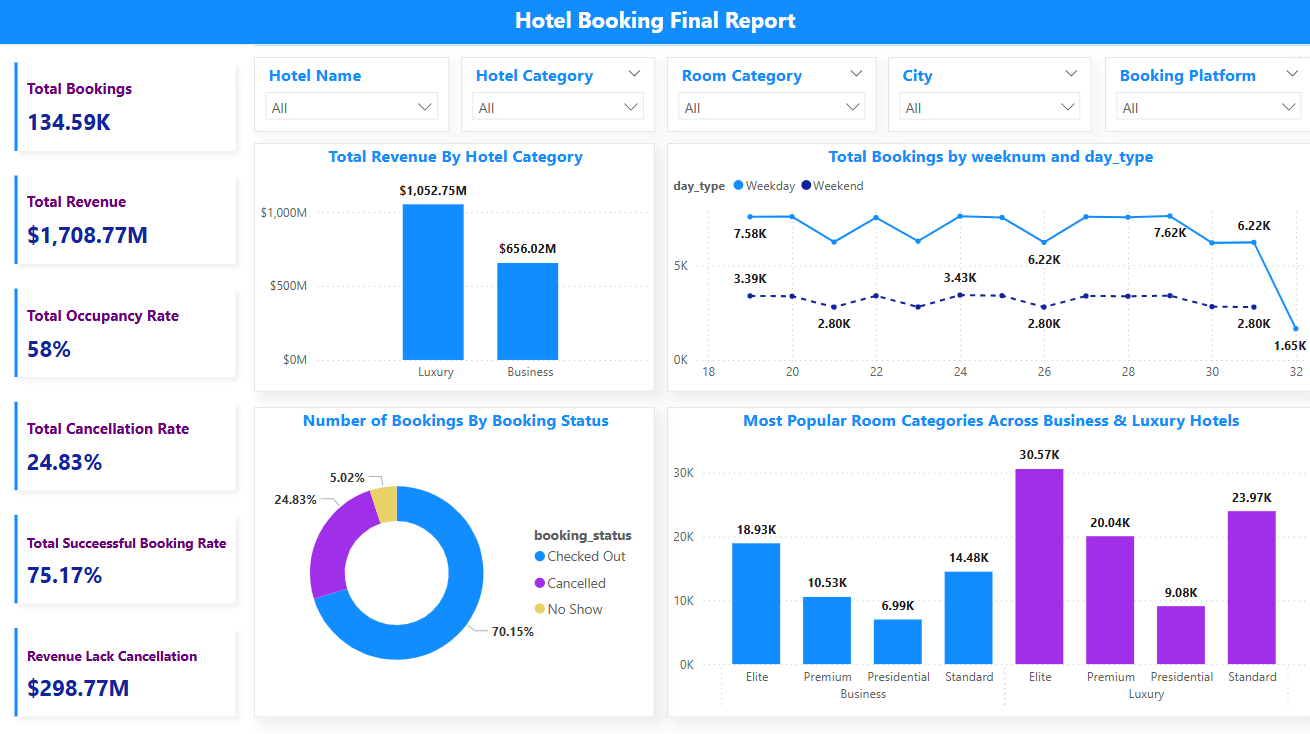

The dashboard page shown, as its layout file describes it:
{"tool":"powerbi","page":{"name":"Home page","canvas":[1280,720],"ordinal":0},"visuals":[{"type":"textbox","box":[0,0,1280,45.7],"z":0},{"type":"cardVisual","fields":{"Data":["Measures (2).Total Bookings","Measures (2).Total Revenue","Measures (2).Total Occupancy Rate","Measures (2).Total Cancellation Rate","Measures (2).Total Succeessful Booking Rate","Measures (2).Revenue Lack Cancellation"]},"box":[0,45.7,250,674],"z":1000},{"type":"group","id":"g1","title":"Group 1","box":[250,57.4,1030,72.9],"z":2000},{"type":"slicer","fields":{"Values":["public dim_hotels.category"]},"box":[451.3,57.4,188.7,72.9],"z":2000,"group":"g1"},{"type":"slicer","fields":{"Values":["public dim_hotels.property_name"]},"box":[250,57.4,189.7,72.9],"z":3000,"group":"g1"},{"type":"columnChart","title":"Total Revenue By Hotel Category","fields":{"Y":["Measures (2).Total Revenue"],"Category":["public dim_hotels.category"]},"box":[250,141,390,242.2],"z":3000},{"type":"slicer","fields":{"Values":["public dim_rooms.room_class"]},"box":[651.7,57.4,204.3,72.9],"z":4000,"group":"g1"},{"type":"lineChart","fields":{"Y":["Measures (2).Total Bookings"],"Category":["public dim_date.weeknum"],"Series":["public dim_date.day_type"]},"box":[651.7,141,628.3,242.2],"z":4000},{"type":"slicer","fields":{"Values":["public dim_hotels.city"]},"box":[866.7,57.4,198.4,72.9],"z":5000,"group":"g1"},{"type":"clusteredColumnChart","title":"Most Popular Room Categories Across Business & Luxury Hotels","fields":{"Category":["public dim_hotels.category","public dim_rooms.room_class"],"Y":["Measures (2).Total Bookings"]},"box":[651.7,397.8,628.3,302.5],"z":5000},{"type":"slicer","fields":{"Values":["public fact_bookings.booking_platform"]},"box":[1077.7,57.4,202.3,72.9],"z":6000,"group":"g1"},{"type":"donutChart","title":"Number of Bookings By Booking Status","fields":{"Y":["Measures (2).Total Bookings"],"Category":["public fact_bookings.booking_status"]},"box":[250,397.8,390,302.5],"z":6000}]}

Visuals, with their boxes in screenshot pixels (x1, y1, x2, y2), scaled from the page's 1280x720 canvas onto the 1310x734 screenshot:
textbox: 0, 0, 1309, 47
cardVisual - Measures (2).Total Bookings x Measures (2).Total Revenue: 0, 47, 256, 733
"Group 1" group: 256, 59, 1309, 133
slicer - public dim_hotels.category: 462, 59, 655, 133
slicer - public dim_hotels.property_name: 256, 59, 450, 133
"Total Revenue By Hotel Category" columnChart: 256, 144, 655, 391
slicer - public dim_rooms.room_class: 667, 59, 876, 133
lineChart - Measures (2).Total Bookings x public dim_date.weeknum: 667, 144, 1309, 391
slicer - public dim_hotels.city: 887, 59, 1090, 133
"Most Popular Room Categories Across Business & Luxury Hotels" clusteredColumnChart: 667, 406, 1309, 714
slicer - public fact_bookings.booking_platform: 1103, 59, 1309, 133
"Number of Bookings By Booking Status" donutChart: 256, 406, 655, 714
